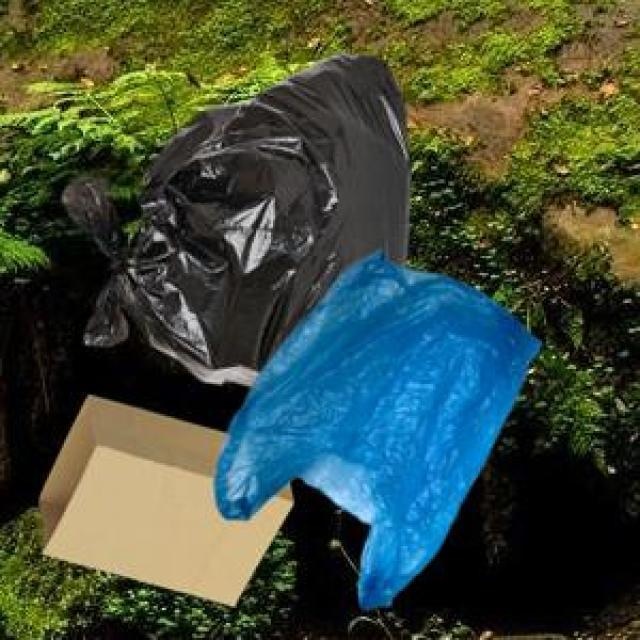miscellaneous trash: (60, 49, 405, 382)
paper: (36, 390, 288, 602)
